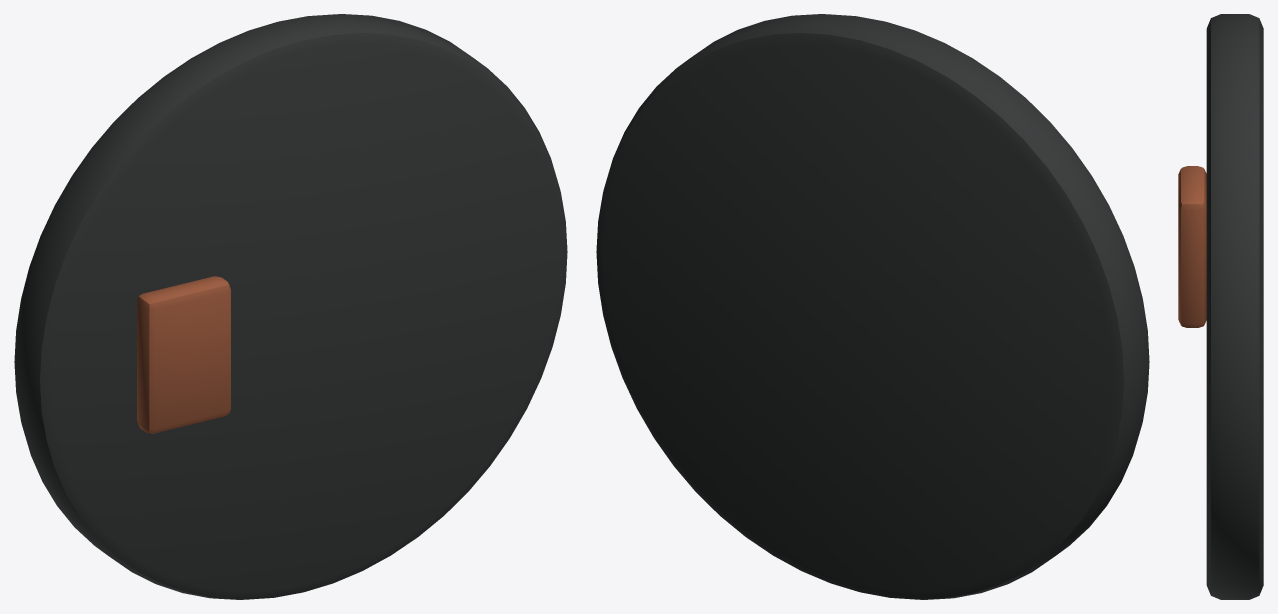
File: kettle_lid.glb
3 renders of one model, left to right at view 1: azimuth 30°, elevation 25°; view 2: azimuth 150°, elevation 25°; view 3: azimuth 270°, elevation 25°, orthographic. The views are drawn at different scales.
Parts seen in each view (by area): view 1: kettle_lid_x; view 2: kettle_lid_x; view 3: kettle_lid_x.
Part boxes in pixels (left/top/right/bottom): kettle_lid_x: left=14, top=14, right=567, bottom=599; kettle_lid_x: left=596, top=14, right=1149, bottom=599; kettle_lid_x: left=1178, top=14, right=1263, bottom=599.
Size of the model in its own units: 0.124 by 0.124 by 0.018.
